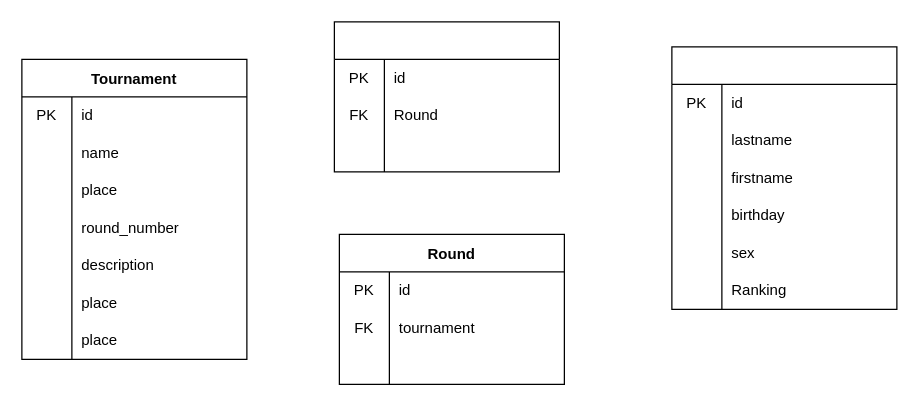
The diagram is 919 pixels wide and 406 high, and some of its shapes have lost their labels. The box of each missing label's shape, as (x1, y1, x2, y2) in pixels:
Match: (333, 21, 559, 172)
player: (671, 46, 897, 309)
